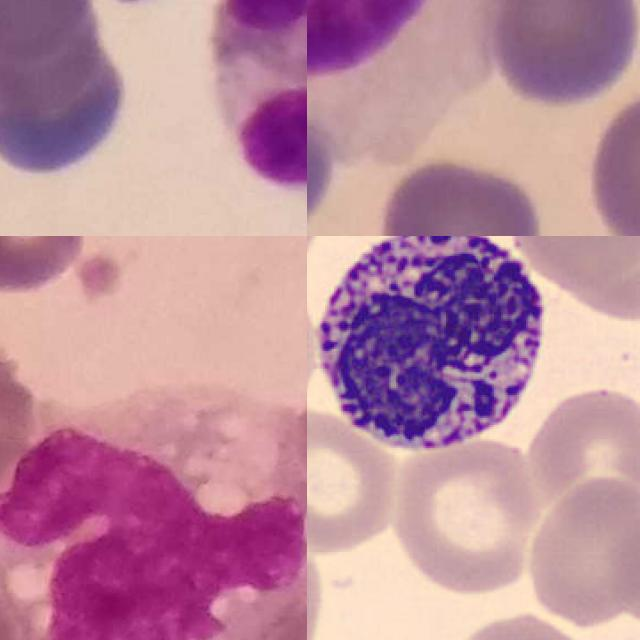Basophil: (307, 236, 558, 462)
Eosinophil: (211, 0, 307, 192)
Lymphocyte: (307, 0, 501, 169)
Monocyte: (0, 386, 307, 640)
RBC: (386, 432, 549, 600), (522, 474, 640, 629), (522, 379, 640, 529), (307, 407, 403, 553), (506, 236, 640, 287), (437, 608, 590, 640)
